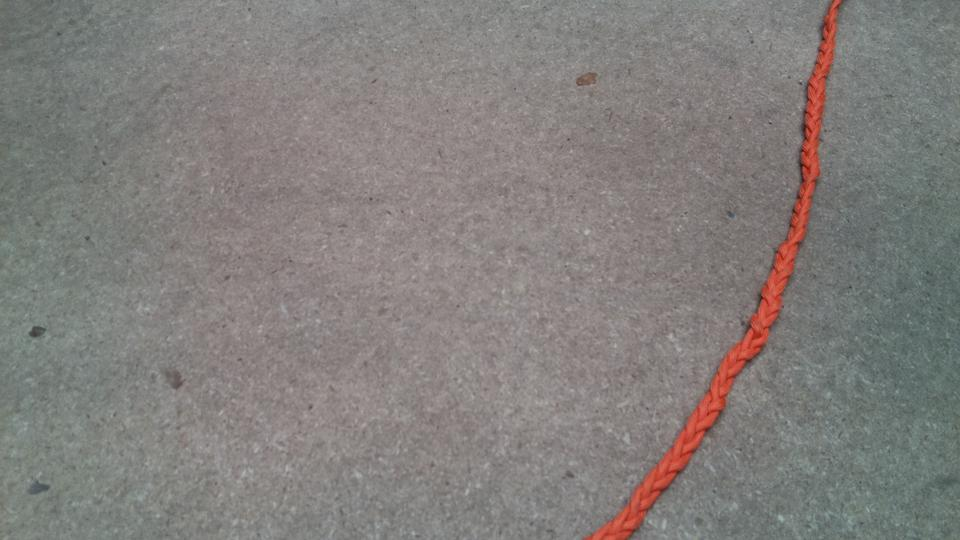rope: (581, 1, 849, 538)
